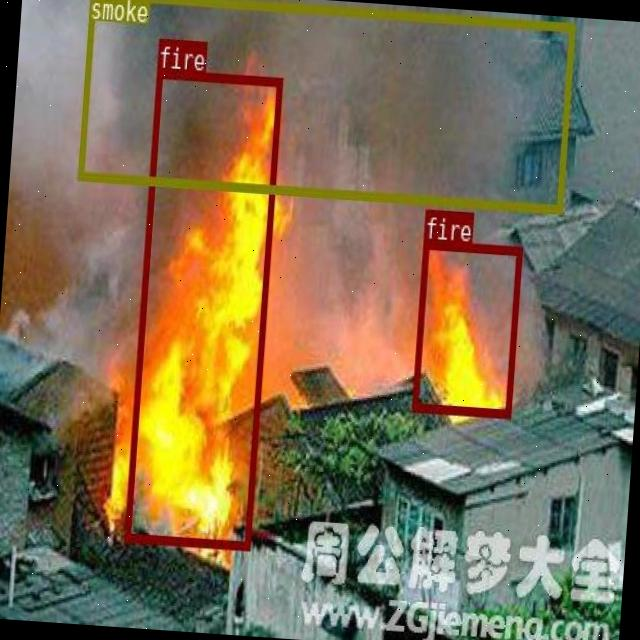fire: (123, 68, 282, 549), (411, 238, 521, 415)
smoke: (77, 0, 574, 210)
